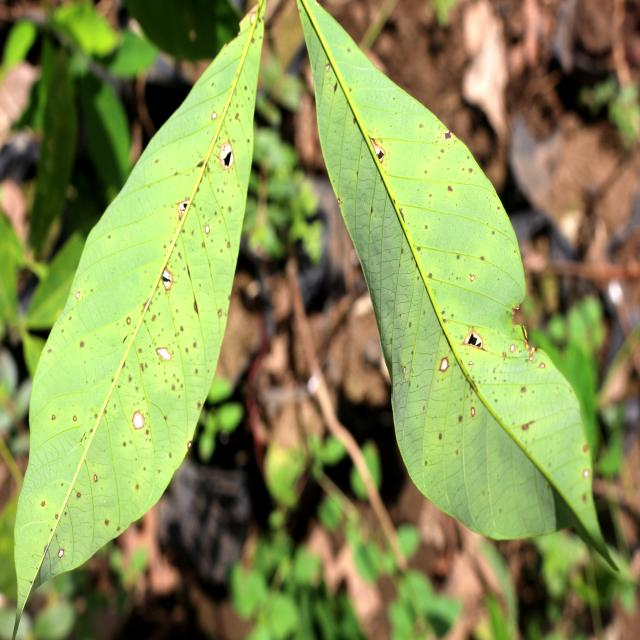Colletotrichum: (132, 410, 144, 430), (439, 357, 449, 372), (58, 549, 64, 558), (211, 112, 217, 120), (205, 225, 210, 234), (471, 407, 475, 417), (510, 344, 515, 352), (326, 63, 330, 71), (126, 317, 130, 325), (470, 275, 474, 282), (540, 363, 545, 368), (94, 474, 97, 482), (530, 356, 534, 361)
